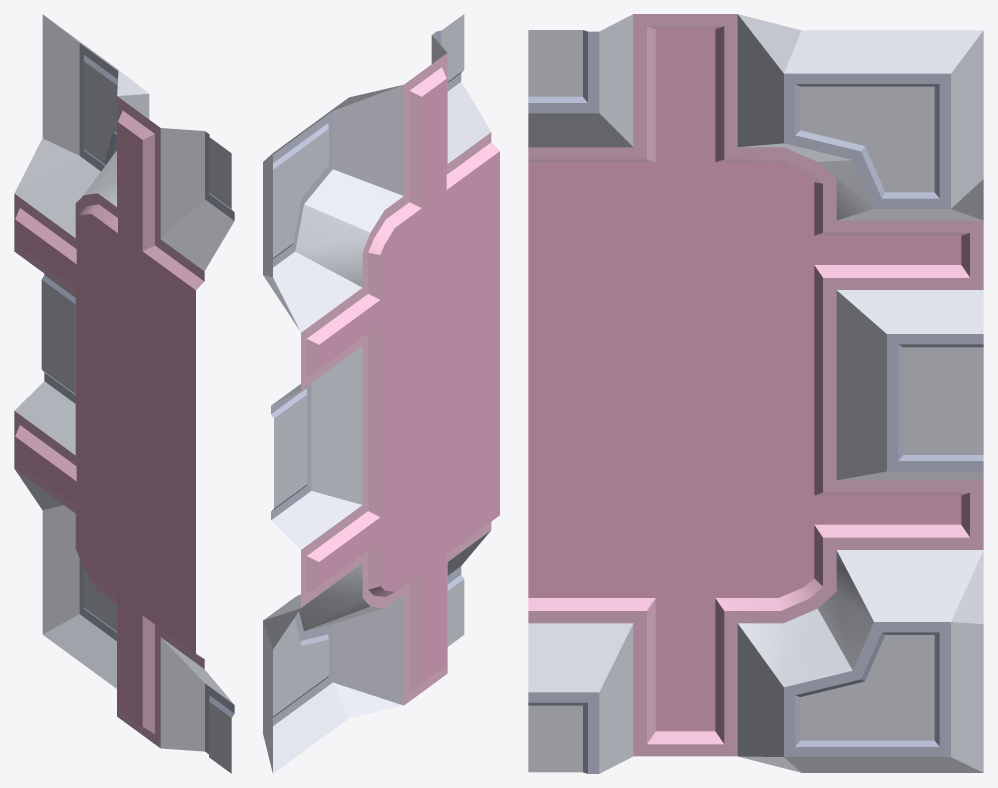
Rendered from WallPanel_EndRight.fbx.
The picture shows the model from 3 angles, left to right: view 1: azimuth 30°, elevation 25°; view 2: azimuth 150°, elevation 25°; view 3: azimuth 270°, elevation 25°; orthographic projection. The views are drawn at different scales.
Parts seen in each view (by area): view 1: EndPanelRight6; view 2: EndPanelRight6; view 3: EndPanelRight6.
Part boxes in pixels (box(x1,y1,x2,y2)): EndPanelRight6: box(14, 14, 234, 773); EndPanelRight6: box(263, 14, 499, 773); EndPanelRight6: box(528, 14, 983, 773).
Size of the model in its own units: 36.55 by 360 by 200.
1 material, 1 textured.
